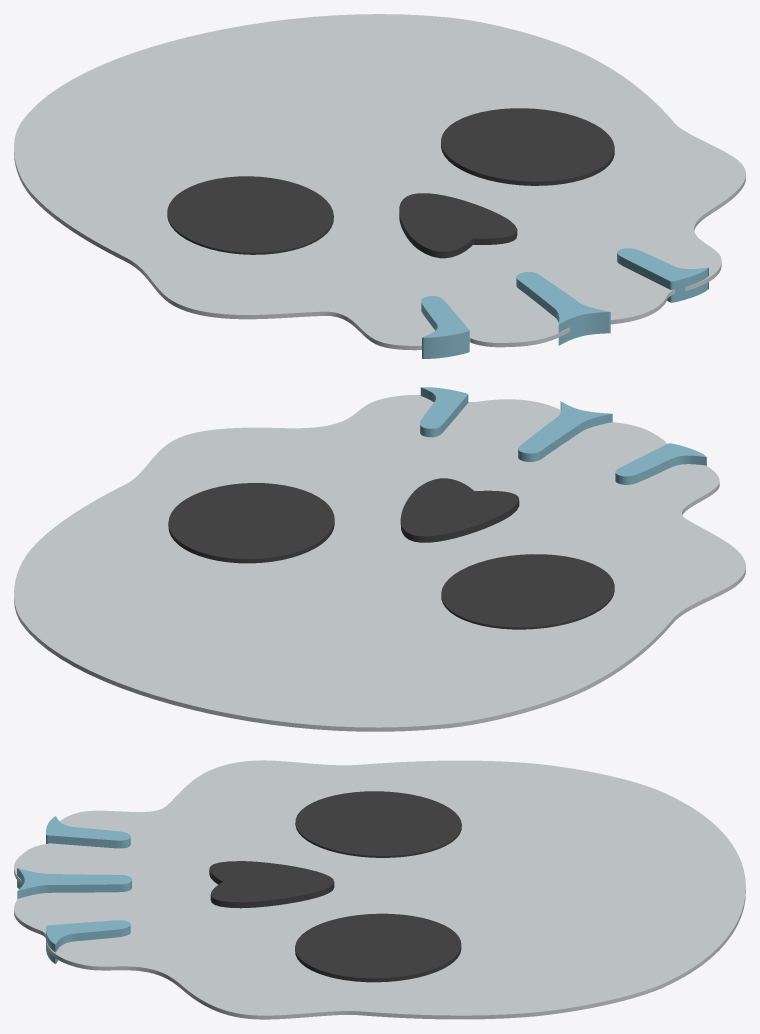
File: emoji_u1f480.glb
3 views of the same model, one above another, from view 1: azimuth 30°, elevation 25°; view 2: azimuth 150°, elevation 25°; view 3: azimuth 270°, elevation 25° (orthographic). The views are drawn at different scales.
Parts seen in each view (by area): view 1: emoji_u1f480; view 2: emoji_u1f480; view 3: emoji_u1f480.
Boxes of the visible parts, <box> form: emoji_u1f480: <box>14,14,745,358</box>; emoji_u1f480: <box>14,387,745,731</box>; emoji_u1f480: <box>14,760,745,1019</box>.
Size of the model in its own units: 0.0279 by 0.001 by 0.0339.
